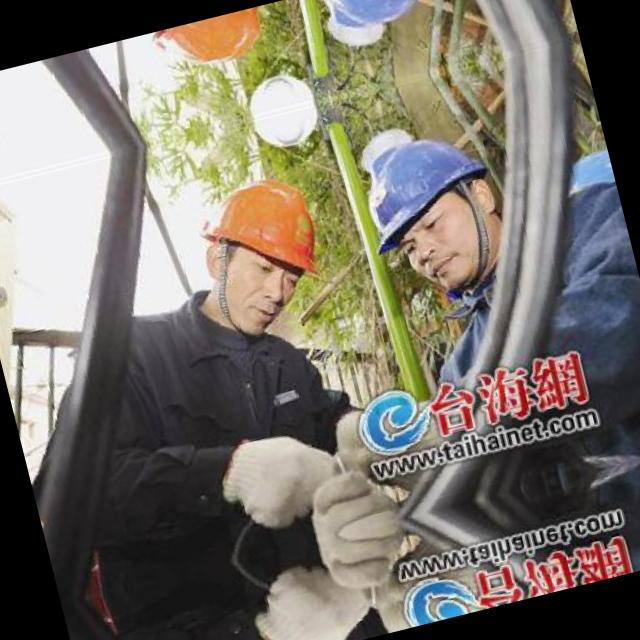helmet: (168, 147, 354, 350), (343, 114, 523, 299), (130, 0, 292, 99), (303, 0, 461, 46)
